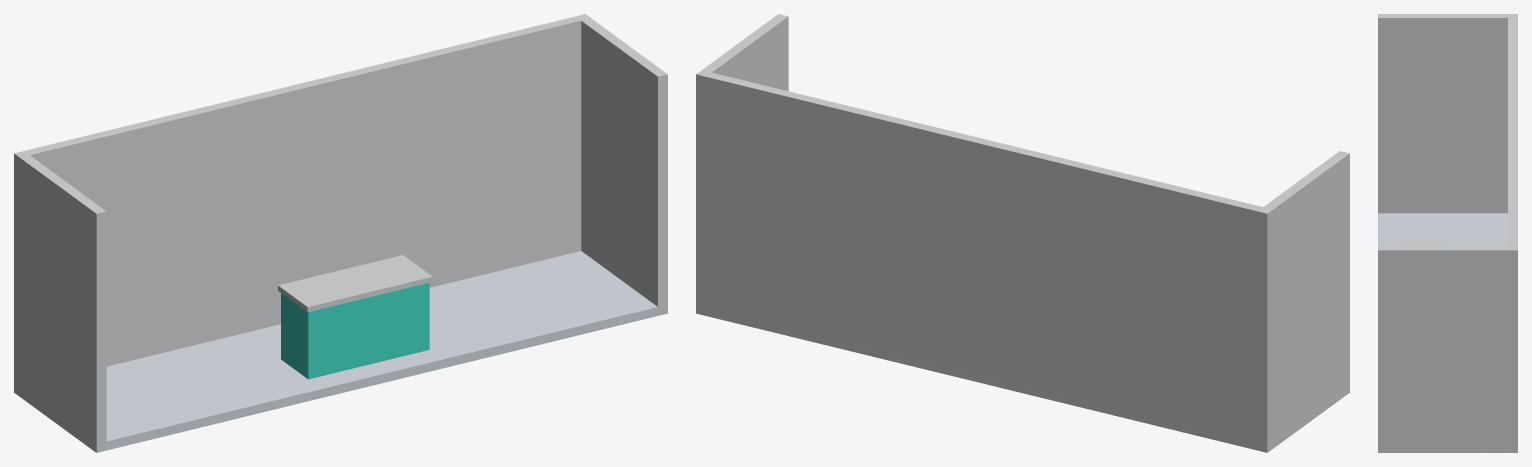
3 views of the same model, side by side, from view 1: azimuth 30°, elevation 25°; view 2: azimuth 150°, elevation 25°; view 3: azimuth 270°, elevation 25° (orthographic). The views are drawn at different scales.
Parts seen in each view (by area): view 1: Exhibition Booth Concept; view 2: Exhibition Booth Concept; view 3: Exhibition Booth Concept.
Part boxes in pixels (box(x1,y1,x2,y2)): Exhibition Booth Concept: box(14, 14, 667, 452); Exhibition Booth Concept: box(696, 14, 1349, 452); Exhibition Booth Concept: box(1378, 14, 1517, 452).
Bounding box in the file's own units: 8 × 3.2 × 2.
